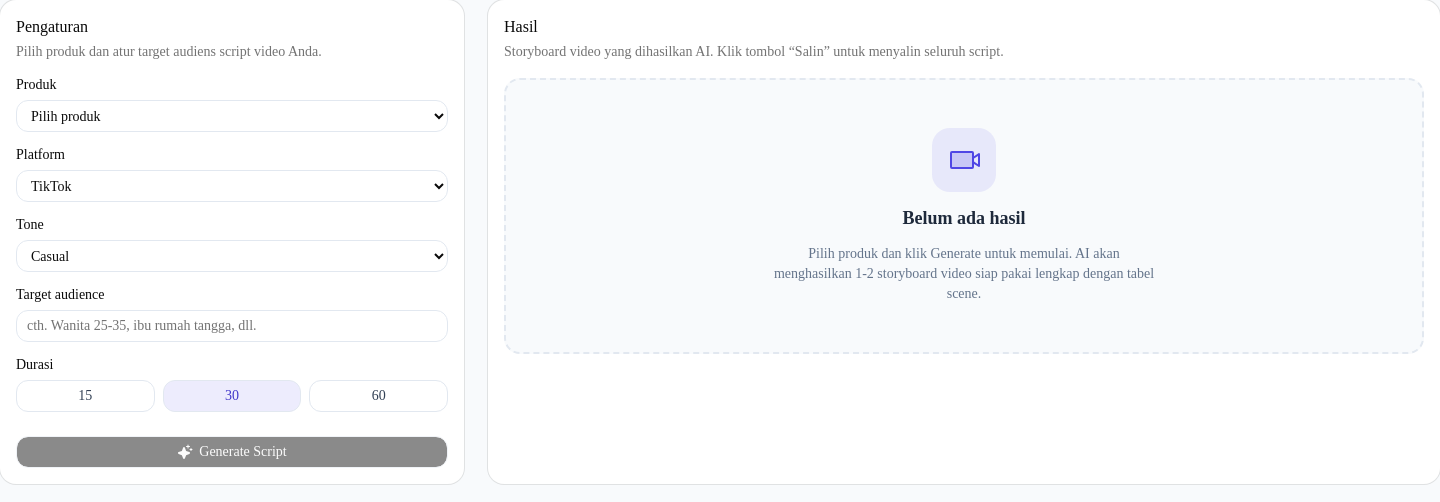
it: ScriptGenerator › shows loading state in the result panel while generateScripts is in flight
Select "Sample Product A" in the dropdown labelled "Produk" at [232, 116], box [16, 100, 448, 132]
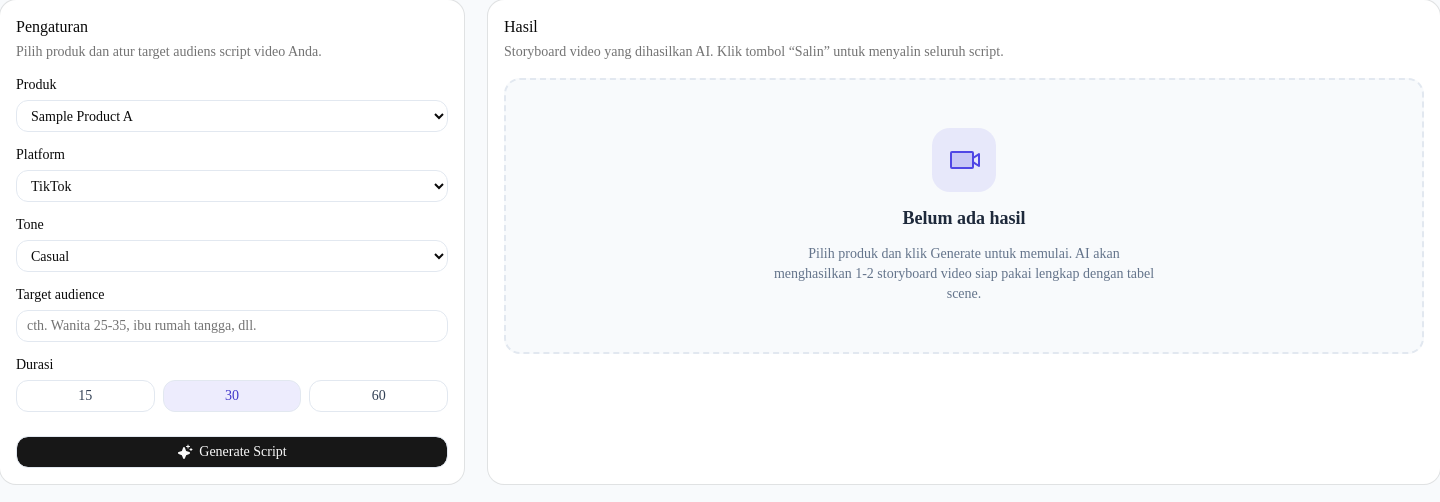
Click the button "Generate Script" at [232, 452], box [16, 436, 448, 468]
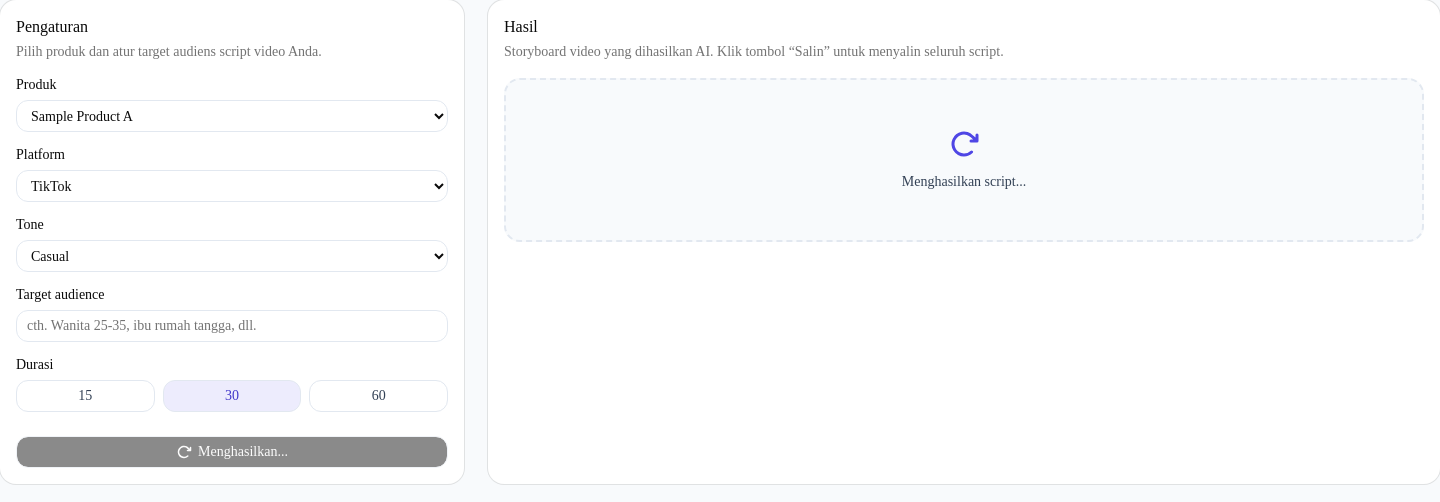
Check: the element with test id "script-loading" is shown, box [504, 78, 1424, 242]
Check: the text "Menghasilkan script..." is shown, box [902, 172, 1026, 192]
